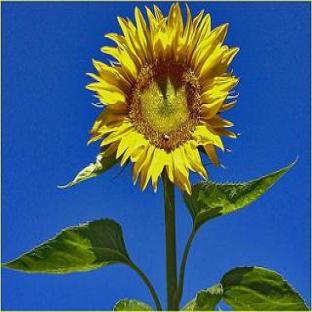sunflower: (58, 4, 239, 198)
